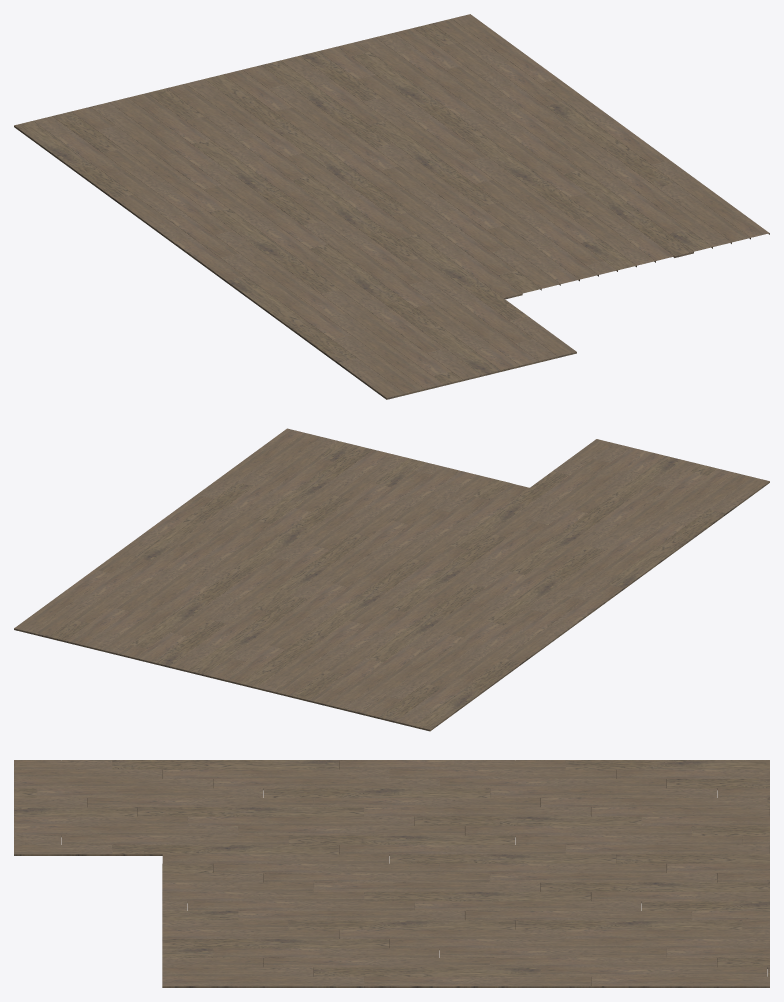
Rendered from evgenVidoneDefolultParquett.gltf.
The picture shows the model from 3 angles, top to bottom: view 1: azimuth 30°, elevation 25°; view 2: azimuth 150°, elevation 25°; view 3: azimuth 270°, elevation 25°; orthographic projection. The views are drawn at different scales.
Visible parts, largest first — view 1: evgenVidoneDefolultParquett; view 2: evgenVidoneDefolultParquett; view 3: evgenVidoneDefolultParquett.
Boxes of the visible parts, x1,y1,x2,y2 form: evgenVidoneDefolultParquett: [14, 14, 769, 399]; evgenVidoneDefolultParquett: [14, 428, 769, 731]; evgenVidoneDefolultParquett: [14, 760, 769, 987].
Bounding box in the file's own units: 3.55 × 0.0134 × 5.02.
1 material, 1 textured.
